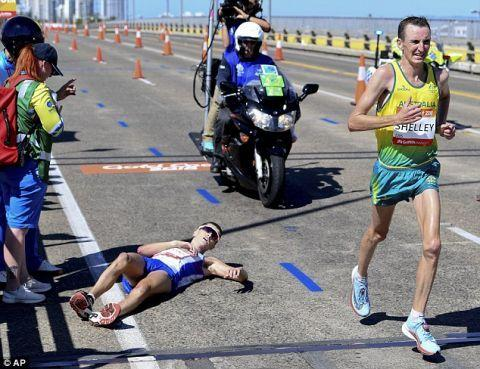fall: (60, 207, 259, 331)
